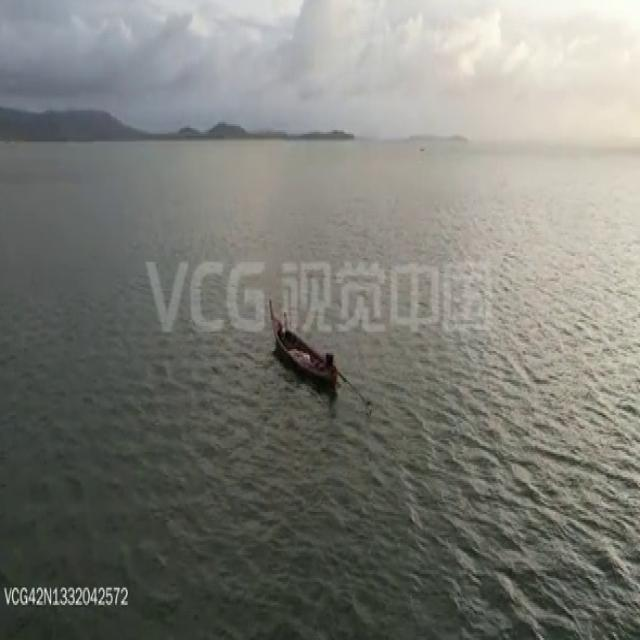fishing boat: (266, 294, 339, 389)
